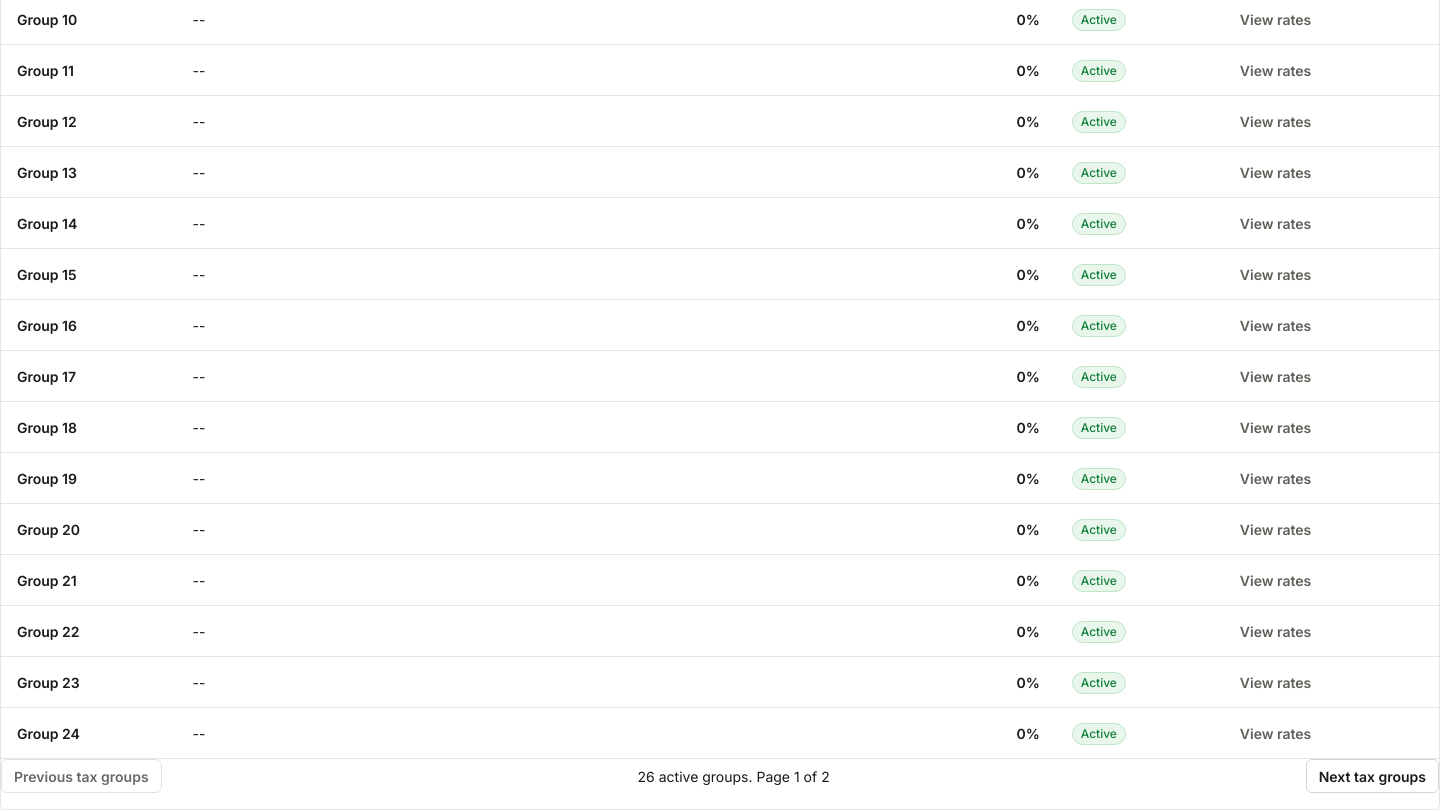
Test: TaxGroupsPage › bounds a large active directory to 25 rows at a time
(page scrolled)
Check: the text "Group 25" is not shown
Click the button "Next tax groups".
click(1372, 776)  # box [1306, 759, 1439, 793]
(page scrolled)
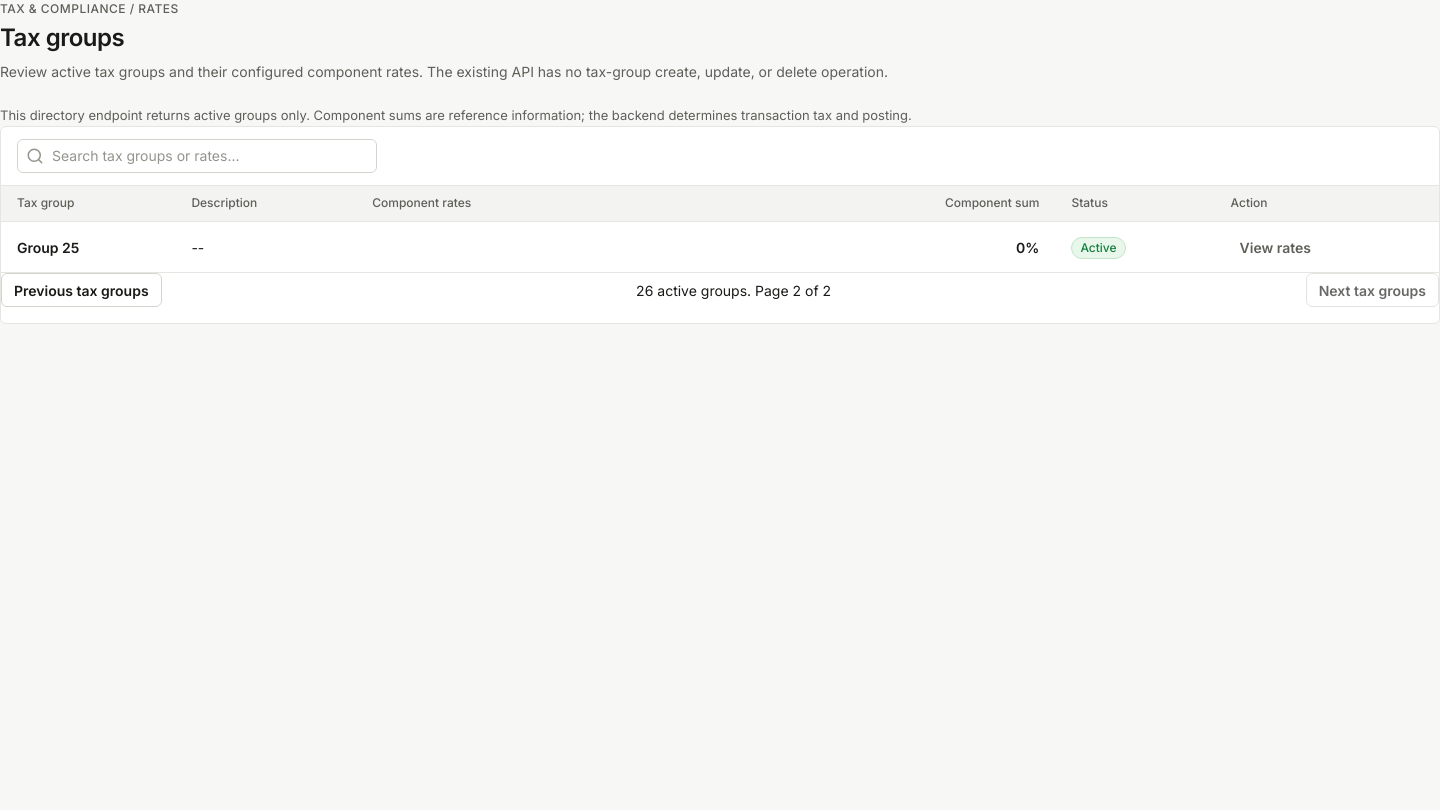
Check: the text "Group 25" is shown, box [17, 239, 79, 256]
